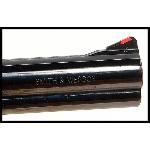Pistol: (2, 36, 142, 116)
